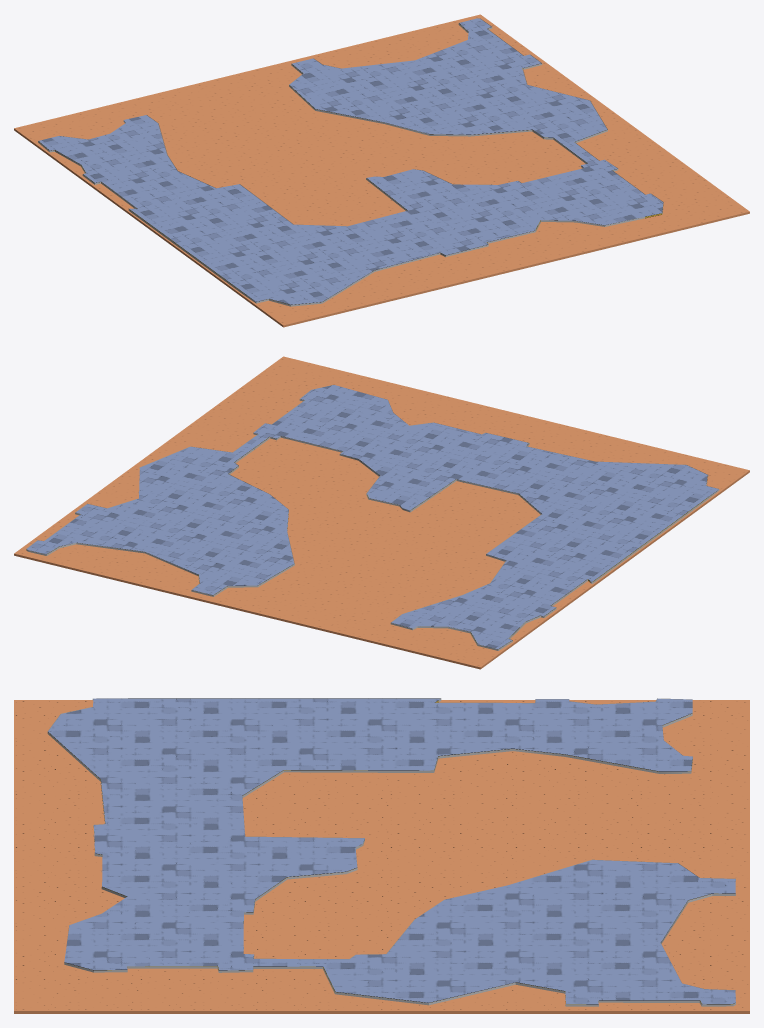
File: Room16A_Floor_Sand_Art.fbx
3 views of the same model, one above another, from view 1: azimuth 30°, elevation 25°; view 2: azimuth 150°, elevation 25°; view 3: azimuth 270°, elevation 25° (orthographic). The views are drawn at different scales.
Visible parts, largest first — view 1: Room16A_Floor_Sand_Art, Room16A_Floor_Tiles, Room16A_FLoor_Shadows; view 2: Room16A_Floor_Sand_Art, Room16A_Floor_Tiles, Room16A_FLoor_Shadows; view 3: Room16A_Floor_Sand_Art, Room16A_Floor_Tiles, Room16A_FLoor_Shadows.
Part boxes in pixels (left/top/right/bottom): Room16A_Floor_Sand_Art: left=14, top=14, right=749, bottom=327; Room16A_Floor_Tiles: left=38, top=18, right=663, bottom=304; Room16A_FLoor_Shadows: left=38, top=18, right=663, bottom=306; Room16A_Floor_Sand_Art: left=14, top=356, right=749, bottom=669; Room16A_Floor_Tiles: left=27, top=385, right=718, bottom=649; Room16A_FLoor_Shadows: left=26, top=385, right=719, bottom=650; Room16A_Floor_Sand_Art: left=14, top=700, right=749, bottom=1013; Room16A_Floor_Tiles: left=48, top=698, right=735, bottom=1004; Room16A_FLoor_Shadows: left=47, top=698, right=735, bottom=1006.
Bounding box in the file's own units: 2394 × 19.54 × 2394.
